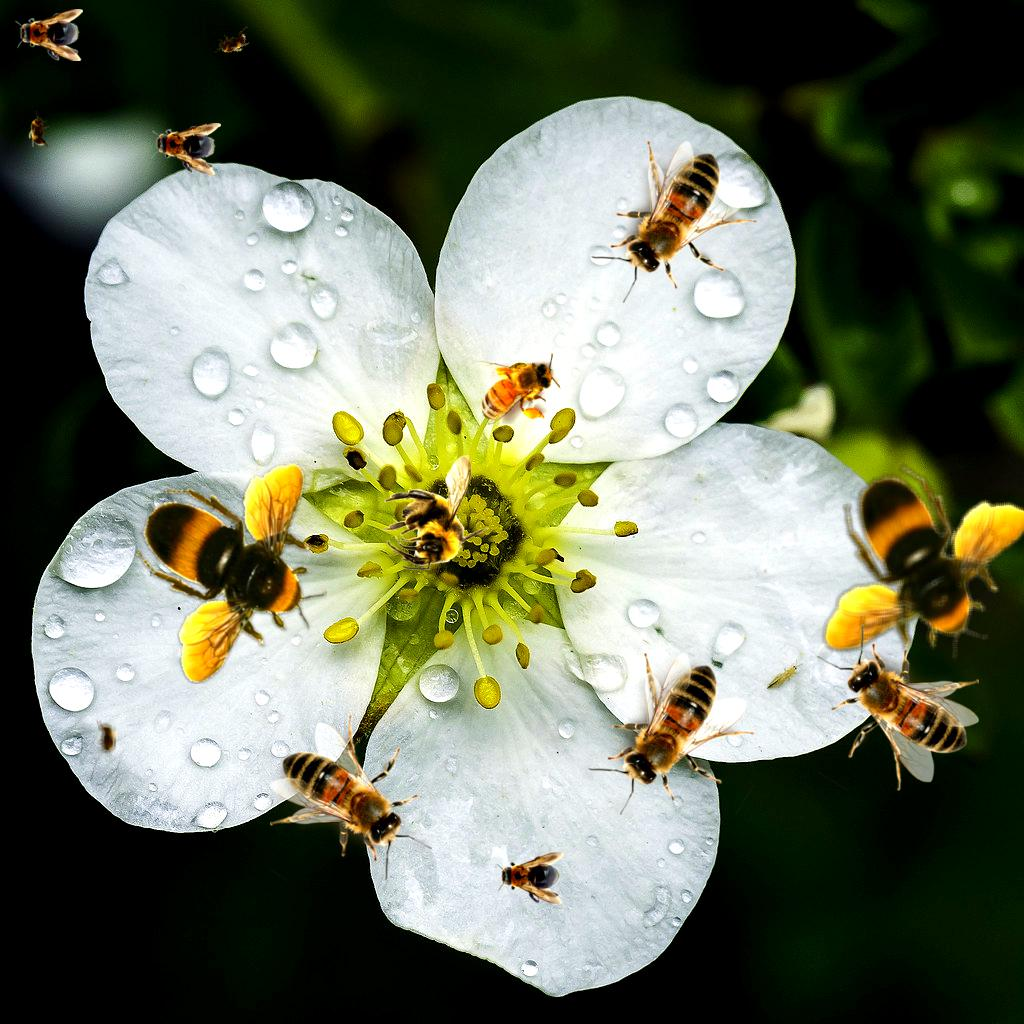Bee: (777, 429, 1024, 716), (136, 464, 327, 684), (817, 624, 979, 791), (270, 714, 432, 881), (591, 141, 758, 303), (588, 653, 755, 815), (383, 455, 490, 570), (465, 353, 563, 426), (149, 118, 221, 176), (15, 9, 83, 61), (496, 852, 564, 904), (209, 25, 255, 61), (28, 111, 50, 151), (96, 719, 118, 759)
